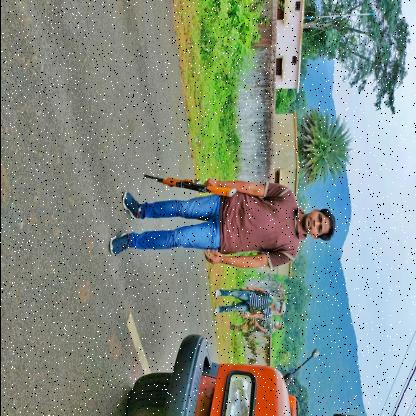rifle: (142, 172, 236, 198)
